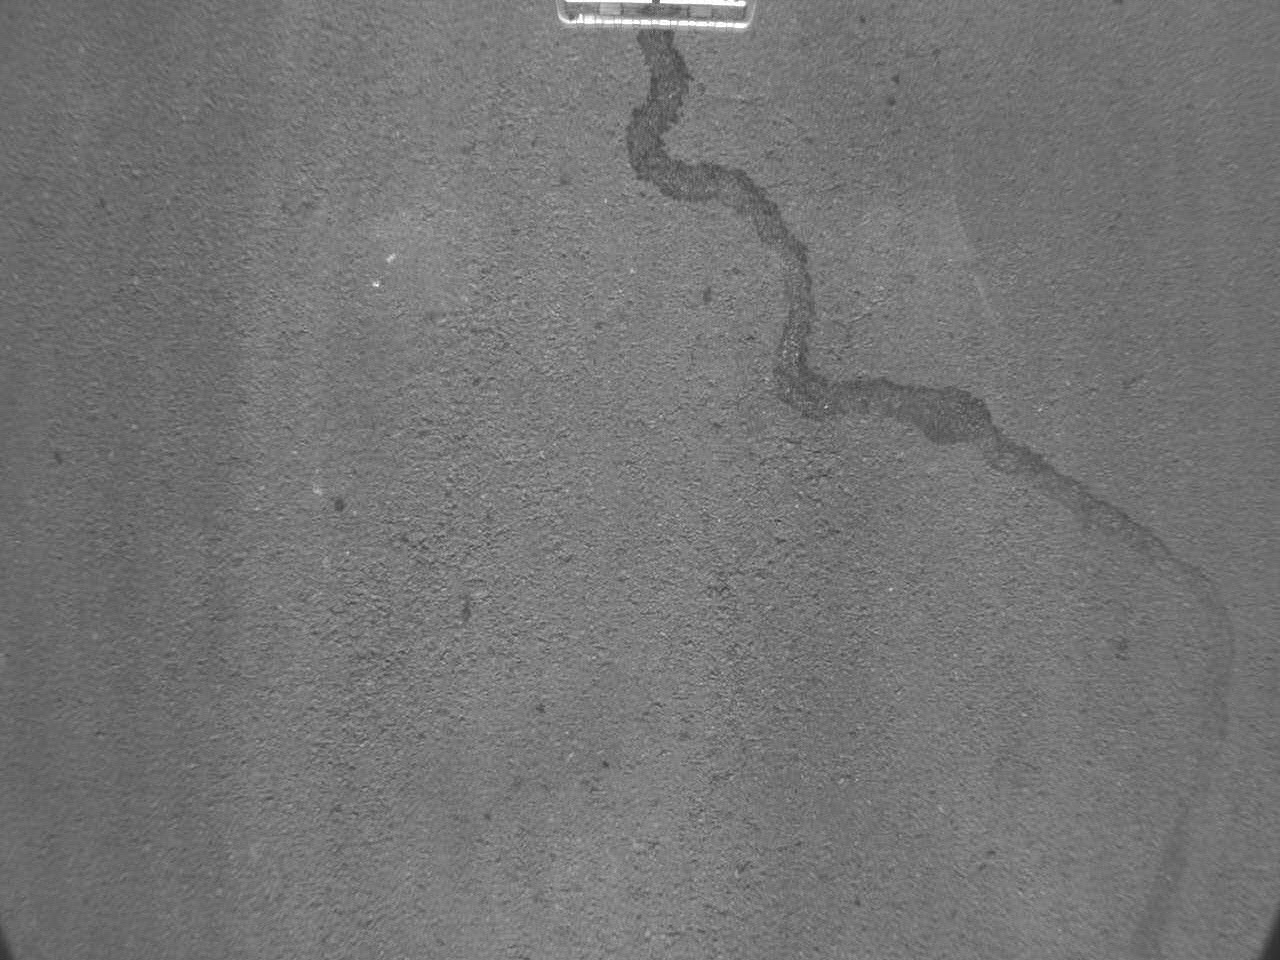sealed: (818, 358, 1238, 583), (606, 12, 816, 422)
